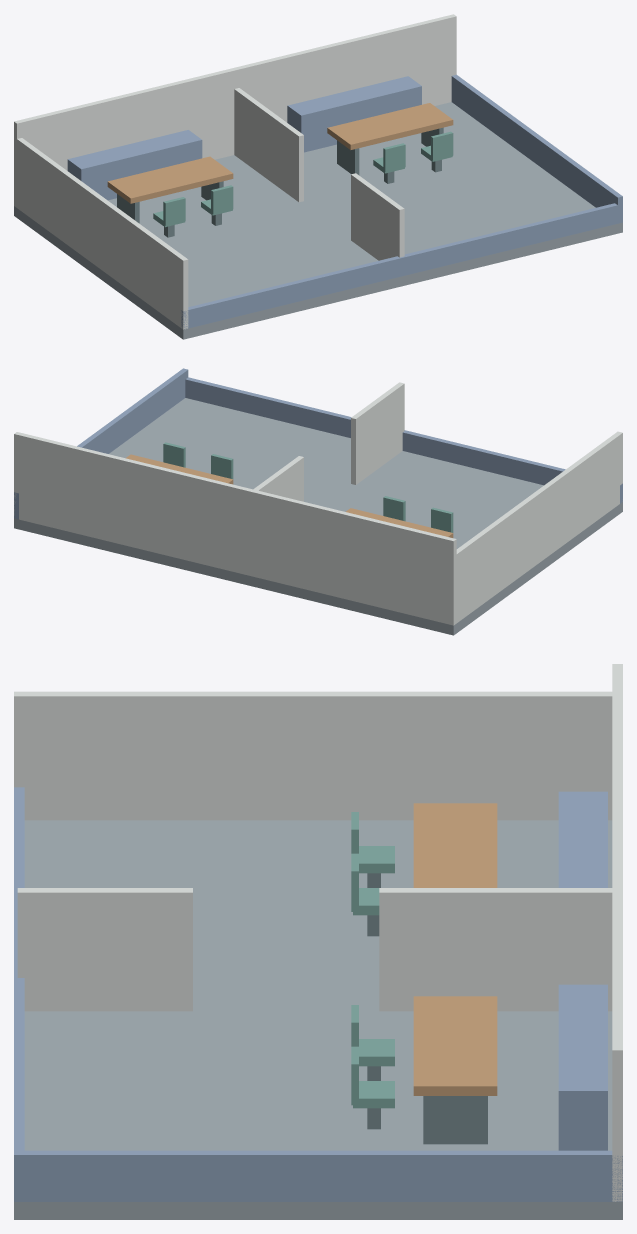
3 views of the same model, one above another, from view 1: azimuth 30°, elevation 25°; view 2: azimuth 150°, elevation 25°; view 3: azimuth 270°, elevation 25° (orthographic). The views are drawn at different scales.
Visible parts, largest first — view 1: Floor slab, North wall, West wall, South sill, Storage (×2), Internal partition (×2), Worktop (×2), East sill, Chair back (×4), Trestle; view 2: North wall, Floor slab, West wall, South sill, Internal partition (×2), East sill, Chair back (×4), Worktop (×2); view 3: Floor slab, West wall, Internal partition (×2), East sill, Worktop (×2), Storage (×2), North wall, South sill, Trestle, Chair seat (×3).
Boxes of the visible parts, x1,y1,x2,y2 form: Floor slab: (14, 102, 622, 339); North wall: (14, 14, 456, 206); West wall: (14, 137, 188, 329); South sill: (181, 203, 622, 329); Storage (×2): (67, 76, 421, 200); Internal partition (×2): (234, 88, 404, 260); Worktop (×2): (107, 103, 453, 203); East sill: (451, 74, 622, 223); Chair back (×4): (163, 131, 453, 225); Trestle: (337, 140, 359, 175); North wall: (14, 432, 456, 625); Floor slab: (14, 398, 622, 635); West wall: (448, 431, 622, 624); South sill: (185, 377, 622, 503); Internal partition (×2): (231, 382, 404, 571); East sill: (14, 368, 188, 519); Chair back (×4): (163, 442, 453, 532); Worktop (×2): (126, 454, 453, 537); Floor slab: (14, 820, 622, 1219); West wall: (14, 691, 612, 820); Internal partition (×2): (17, 888, 612, 1011); East sill: (14, 1150, 622, 1201); Worktop (×2): (413, 803, 497, 1095); Storage (×2): (558, 791, 607, 1150); North wall: (612, 664, 622, 1201); South sill: (14, 787, 24, 1201); Trestle: (423, 1096, 487, 1144); Chair seat (×3): (353, 846, 394, 1108).
Bounding box in the file's own units: 12 × 2.46 × 8.
